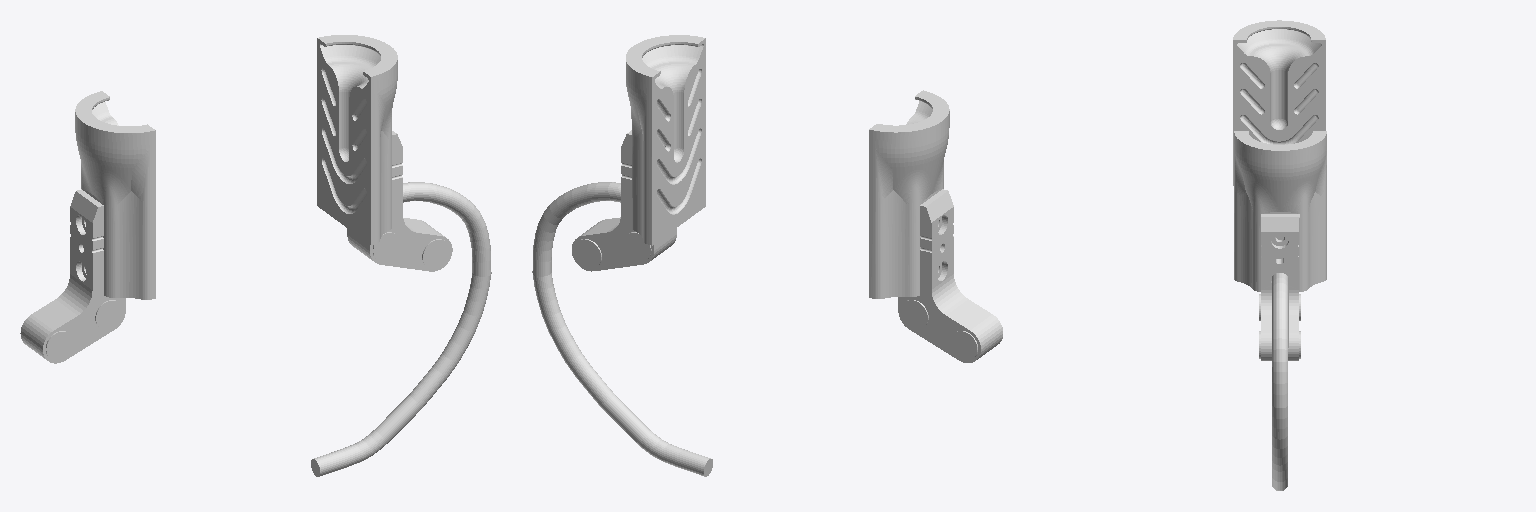
robot.urdf — kinova:
<?xml version="1.0" ?>
<!-- =================================================================================== -->
<!-- |    This document was autogenerated by xacro from gen3_robotiq_2f_85.xacro       | -->
<!-- |    EDITING THIS FILE BY HAND IS NOT RECOMMENDED                                 | -->
<!-- =================================================================================== -->
<robot name="kinova" xmlns:xacro="http://www.ros.org/wiki/xacro">
  <!-- Run the macros -->
  <link name="kinova_link0">
    <inertial>
      <origin rpy="0 0 0" xyz="0 0 0"/>
      <mass value="1.697"/>
      <inertia ixx="0.004622" ixy="9E-06" ixz="6E-05" iyy="0.004495" iyz="9E-06" izz="0.002079"/>
    </inertial>
    <visual>
      <origin rpy="0 0 0" xyz="0 0 0"/>
      <geometry>
        <mesh filename="package://meshes/visual/base_link.STL"/>
      </geometry>
      <material name="kinova_blue"/>
    </visual>
    <collision>
      <origin rpy="0 0 0" xyz="0 0 0"/>
      <geometry>
        <mesh filename="package://meshes/collision/base_link.STL"/>
      </geometry>
    </collision>
  </link>

  <link name="kinova_link1">
    <inertial>
      <origin rpy="0 0 0" xyz="0 0 0"/>
      <mass value="1.3773"/>
      <inertia ixx="0.00457" ixy="1E-06" ixz="2E-06" iyy="0.004831" iyz="0.000448" izz="0.001409"/>
    </inertial>
    <visual>
      <origin rpy="0 0 0" xyz="0 0 0"/>
      <geometry>
        <mesh filename="package://meshes/visual/shoulder_link.STL"/>
      </geometry>
      <material name="kinova_white"/>
    </visual>
    <collision>
      <origin rpy="0 0 0" xyz="0 0 0"/>
      <geometry>
        <mesh filename="package://meshes/collision/shoulder_link.STL"/>
      </geometry>
    </collision>
  </link>

  <joint name="joint_1" type="continuous">
    <safety_controller k_position="100.0" k_velocity="40.0" />
    <origin rpy="3.1416 0 0" xyz="0 0 0.15643"/>
    <parent link="kinova_link0"/>
    <child link="kinova_link1"/>
    <axis xyz="0 0 1"/>
    <limit effort="87" velocity="2.1750"/>
    <dynamics damping="0.5"/>
  </joint>

  <link name="kinova_link2">
    <inertial>
      <origin rpy="0 0 0" xyz="0 0 0"/>
      <mass value="1.1636"/>
      <inertia ixx="0.011088" ixy="5E-06" ixz="0" iyy="0.001072" iyz="-0.000691" izz="0.011255"/>
    </inertial>
    <visual>
      <origin rpy="0 0 0" xyz="0 0 0"/>
      <geometry>
        <mesh filename="package://meshes/visual/half_arm_1_link.STL"/>
      </geometry>
      <material name="kinova_white"/>
    </visual>
    <collision>
      <origin rpy="0 0 0" xyz="0 0 0"/>
      <geometry>
        <mesh filename="package://meshes/collision/half_arm_1_link.STL"/>
      </geometry>
    </collision>
  </link>

  <joint name="joint_2" type="revolute">
    <origin rpy="1.5708 0 0" xyz="0 0.005375 -0.12838"/>
    <parent link="kinova_link1"/>
    <child link="kinova_link2"/>
    <axis xyz="0 0 1"/>
    <limit effort="87" lower="-2.24" upper="2.24" velocity="1.3963"/>
    <dynamics damping="0.5"/>
  </joint>

  <link name="kinova_link3">
    <inertial>
      <origin rpy="0 0 0" xyz="0 0 0"/>
      <mass value="1.1636"/>
      <inertia ixx="0.010932" ixy="0" ixz="-7E-06" iyy="0.011127" iyz="0.000606" izz="0.001043"/>
    </inertial>
    <visual>
      <origin rpy="0 0 0" xyz="0 0 0"/>
      <geometry>
        <mesh filename="package://meshes/visual/half_arm_2_link.STL"/>
      </geometry>
      <material name="kinova_white"/>
    </visual>
    <collision>
      <origin rpy="0 0 0" xyz="0 0 0"/>
      <geometry>
        <mesh filename="package://meshes/collision/half_arm_2_link.STL"/>
      </geometry>
    </collision>
  </link>

  <joint name="joint_3" type="continuous">
    <origin rpy="-1.5708 0 0" xyz="0 -0.21038 -0.006375"/>
    <parent link="kinova_link2"/>
    <child link="kinova_link3"/>
    <axis xyz="0 0 1"/>
    <limit effort="87" velocity="1.3963"/>
    <dynamics damping="0.5"/>
  </joint>

  <link name="kinova_link4">
    <inertial>
      <origin rpy="0 0 0" xyz="0 0 0"/>
      <mass value="0.9302"/>
      <inertia ixx="0.008147" ixy="-1E-06" ixz="0" iyy="0.000631" iyz="-0.0005" izz="0.008316"/>
    </inertial>
    <visual>
      <origin rpy="0 0 0" xyz="0 0 0"/>
      <geometry>
        <mesh filename="package://meshes/visual/forearm_link.STL"/>
      </geometry>
      <material name="kinova_white"/>
    </visual>
    <collision>
      <origin rpy="0 0 0" xyz="0 0 0"/>
      <geometry>
        <mesh filename="package://meshes/collision/forearm_link.STL"/>
      </geometry>
    </collision>
  </link>

  <joint name="joint_4" type="revolute">
    <origin rpy="1.5708 0 0" xyz="0 0.006375 -0.21038"/>
    <parent link="kinova_link3"/>
    <child link="kinova_link4"/>
    <axis xyz="0 0 1"/>
    <limit effort="87" lower="-2.57" upper="2.57" velocity="1.3963"/>
    <dynamics damping="0.5"/>
  </joint>

  <link name="kinova_link5">
    <inertial>
      <origin rpy="0 0 0" xyz="0 0 0"/>
      <mass value="0.6781"/>
      <inertia ixx="0.001596" ixy="0" ixz="0" iyy="0.001607" iyz="0.000256" izz="0.000399"/>
    </inertial>
    <visual>
      <origin rpy="0 0 0" xyz="0 0 0"/>
      <geometry>
        <mesh filename="package://meshes/visual/spherical_wrist_1_link.STL"/>
      </geometry>
      <material name="kinova_white"/>
    </visual>
    <collision>
      <origin rpy="0 0 0" xyz="0 0 0"/>
      <geometry>
        <mesh filename="package://meshes/collision/spherical_wrist_1_link.STL"/>
      </geometry>
    </collision>
  </link>

  <joint name="joint_5" type="continuous">
    <origin rpy="-1.5708 0 0" xyz="0 -0.20843 -0.006375"/>
    <parent link="kinova_link4"/>
    <child link="kinova_link5"/>
    <axis xyz="0 0 1"/>
    <limit effort="12" velocity="1.2218"/>
    <dynamics damping="0.5"/>
  </joint>

  <link name="kinova_link6">
    <inertial>
      <origin rpy="0 0 0" xyz="0 0 0"/>
      <mass value="0.6781"/>
      <inertia ixx="0.001641" ixy="0" ixz="0" iyy="0.00041" iyz="-0.000278" izz="0.001641"/>
    </inertial>
    <visual>
      <origin rpy="0 0 0" xyz="0 0 0"/>
      <geometry>
        <mesh filename="package://meshes/visual/spherical_wrist_2_link.STL"/>
      </geometry>
      <material name="kinova_white"/>
    </visual>
    <collision>
      <origin rpy="0 0 0" xyz="0 0 0"/>
      <geometry>
        <mesh filename="package://meshes/collision/spherical_wrist_2_link.STL"/>
      </geometry>
    </collision>
  </link>

  <joint name="joint_6" type="revolute">
    <origin rpy="1.5708 0 0" xyz="0 0.00017505 -0.10593"/>
    <parent link="kinova_link5"/>
    <child link="kinova_link6"/>
    <axis xyz="0 0 1"/>
    <limit effort="12" lower="-2.09" upper="2.09" velocity="1.2218"/>
    <dynamics damping="0.5"/>
  </joint>

  <link name="kinova_link7">
    <inertial>
      <origin rpy="0 0 0" xyz="0 0 0"/>
      <mass value="0.5"/>
      <inertia ixx="0.000587" ixy="3E-06" ixz="3E-06" iyy="0.000369" iyz="-0.000118" izz="0.000609"/>
    </inertial>
    <visual>
      <origin rpy="0 0 0" xyz="0 0 0"/>
      <geometry>
        <mesh filename="package://meshes/visual/bracelet_with_vision_link.STL"/>
      </geometry>
      <material name="kinova_white"/>
    </visual>0.00017505
    <collision>
      <origin rpy="0 0 0" xyz="0 0 0"/>
      <geometry>
        <mesh filename="package://meshes/collision/bracelet_with_vision_link.STL"/>
      </geometry>
    </collision>
  </link>

  <joint name="joint_7" type="continuous">
    <origin rpy="-1.5708 0 0" xyz="0 -0.10593 -0.00017505"/>
    <parent link="kinova_link6"/>
    <child link="kinova_link7"/>
    <axis xyz="0 0 1"/>
    <limit effort="12" velocity="1.2218"/>
    <dynamics damping="0.5"/>
  </joint>

  <joint name="gripper_base_joint" type="fixed">
    <parent link="kinova_link7"/>
    <child link="robotiq_85_base_link"/>
    <origin rpy="3.14159265358979 0 0" xyz="0 0 -0.065529"/>
  </joint>

  <link
    name="robotiq_85_base_link">
    <inertial>
      <origin
        rpy="0 0 0" xyz="0 0 0"/>
      <mass
        value="0.30915" />
      <inertia
        ixx="0.00028972"
        ixy="-5.7879E-10"
        ixz="-1.8543E-06"
        iyy="0.00030737"
        iyz="1.682E-12"
        izz="0.00019914" />
    </inertial>
    <visual>
      <origin
        xyz="0 0 0"
        rpy="0 0 0" />
      <geometry>
        <mesh
          filename="package://meshes/visual/robotiq_85_base_link_fine.STL" />
      </geometry>
      <material name="gripper_black"/>
    </visual>
    <collision>
      <origin rpy="0 0 0" xyz="0 0 0"/>
      <geometry>
        <mesh filename="package://meshes/visual/robotiq_85_base_link_fine.STL"/>
      </geometry>
    </collision>
  </link>

  <link
    name="left_outer_knuckle">
    <inertial>
      <origin
        rpy="0 0 0" xyz="0 0 0"/>
      <mass
        value="0.00684838849434396" />
      <inertia
        ixx="2.66832029033166E-07"
        ixy="1.66142314639824E-15"
        ixz="1.45945633322873E-07"
        iyy="1.3889233257419E-06"
        iyz="2.82951161241588E-15"
        izz="1.26603336914415E-06" />
    </inertial>
    <visual>
      <origin
        xyz="0 0 0"
        rpy="0 0 0" />
      <geometry>
        <mesh
          filename="package://meshes/visual/outer_knuckle_fine.STL" />
      </geometry>
      <material name="gripper_lightGrey"/>
    </visual>
  </link>
  <joint
    name="finger_joint"
    type="revolute">
    <origin
      xyz="0.0306011444260539 0 0.0627920162695395"
      rpy="0 0 0" />
    <parent
      link="robotiq_85_base_link" />
    <child
      link="left_outer_knuckle" />
    <axis
      xyz="0 -1 0" />
    <limit
	    effort="20"  
      lower="-0.35"
      upper="0.673"
      velocity="2.0"/>
  </joint>
  <link
    name="left_outer_finger">
    <inertial>
      <origin
        rpy="0 0 0" xyz="0 0 0"/>
      <mass
        value="0.0273093985570947" />
      <inertia
        ixx="8.51629628283022E-06"
        ixy="2.58174336207405E-19"
        ixz="3.83829504344079E-07"
        iyy="6.9133328065108E-06"
        iyz="-7.58589926143789E-19"
        izz="2.25006832221981E-06" />
    </inertial>
    <visual>
      <origin
        xyz="0 0 0"
        rpy="0 0 0" />
      <geometry>
        <mesh
          filename="package://meshes/visual/outer_finger_fine.STL" />
      </geometry>
      <material name="gripper_black"/>
    </visual>
  </link>
  <joint
    name="left_outer_finger_joint"
    type="fixed">
    <origin
      xyz="0.0316910442266543 0 -0.00193396375724605"
      rpy="0 0 0" />
    <parent
      link="left_outer_knuckle" />
    <child
      link="left_outer_finger" />
    <axis
      xyz="0 -1 0" />
  </joint>
  <link
    name="left_inner_knuckle">
    <inertial>
      <origin
        rpy="0 0 0" xyz="0 0 0"/>
      <mass
        value="0.0110930853895903" />
      <inertia
        ixx="4.23392770691541E-06"
        ixy="5.748978936968E-15"
        ixz="1.78855677119788E-06"
        iyy="3.96548790524392E-06"
        iyz="1.05464666369669E-14"
        izz="3.24068002883007E-06" />
    </inertial>
    <visual>
      <origin
        xyz="0 0 0"
        rpy="0 0 0" />
      <geometry>
        <mesh
          filename="package://meshes/visual/inner_knuckle_fine.STL" />
      </geometry>
      <material name="gripper_black"/>
    </visual>
  </link>
  <joint
    name="left_inner_knuckle_joint"
    type="revolute">
    <origin
      xyz="0.0127000000001501 0 0.0693074999999639"
      rpy="0 0 0" />
    <parent
      link="robotiq_85_base_link" />
    <child
      link="left_inner_knuckle" />
    <axis
      xyz="0 -1 0" />
    <limit
      effort="20"
      velocity="2.0"/>
    <mimic 
      joint="finger_joint"
      multiplier="1"
      offset="0" />
  </joint>

  <link
    name="left_inner_finger">
    <contact>
      <friction_anchor/>
      <stiffness value="30000.0"/>
      <damping value="1000.0"/>
      <spinning_friction value="0.1"/>
      <lateral_friction value="1.0"/>
    </contact>
    <inertial>
      <origin
        rpy="0 0 0" xyz="0 0 0"/>
      <mass
        value="0.00724255346165745" />
      <inertia
        ixx="1.47824274053603E-06"
        ixy="-3.94884463570303E-19"
        ixz="-3.45268847648622E-07"
        iyy="1.70064480838395E-06"
        iyz="3.5059838910097E-19"
        izz="4.77151336838364E-07" />
    </inertial>
    <visual>
      <origin
        xyz="0 0 0"
        rpy="1.57 0 0" />
      <geometry>
        <mesh
          filename="package://meshes/visual/inner_finger_pipe_fine.obj" />
      </geometry>
      <material name="gripper_lightGrey"/>
    </visual>
    <collision>
      <origin
        xyz="0.0014 0 0"
        rpy="0 0 0" />
      <geometry>
        <mesh
          filename="package://meshes/visual/inner_finger_fine.STL" />
      </geometry>
    </collision>
  </link>
  <joint
    name="left_inner_finger_joint"
    type="prismatic">
    <origin
      xyz="0.05 0 0.12"
      rpy="0 0 0" />
    <parent
      link="robotiq_85_base_link" />
    <child
      link="left_inner_finger" />
    <axis
      xyz="1 0 0" />
    <limit
      effort="20"
      velocity="2.0"/>
  </joint>

  <link
    name="right_inner_knuckle">
    <inertial>
      <origin
        rpy="0 0 0" xyz="0 0 0"/>
      <mass
        value="0.0110930853895903" />
      <inertia
        ixx="4.27134775939882E-06"
        ixy="-8.53568456728898E-15"
        ixz="1.77774229944246E-06"
        iyy="3.96548790524392E-06"
        iyz="-8.45108024914164E-15"
        izz="3.20325997634666E-06" />
    </inertial>
    <visual>
      <origin
        xyz="0 0 0"
        rpy="0 0 0" />
      <geometry>
        <mesh
          filename="package://meshes/visual/inner_knuckle_fine.STL" />
      </geometry>
      <material name="gripper_black"/>
    </visual>
  </link>
  <joint
    name="right_inner_knuckle_joint"
    type="revolute">
    <origin
      xyz="-0.0126999999998499 0 0.0693075000000361"
      rpy="0 0 3.14159265358979" />
    <parent
      link="robotiq_85_base_link" />
    <child
      link="right_inner_knuckle" />
    <axis
      xyz="0 1 0" />
    <limit
      effort="20"
      velocity="2.0"/>
    <mimic 
      joint="finger_joint"
      multiplier="-1"
      offset="0" />
  </joint>
  <link
    name="right_inner_finger">
    <contact>
      <friction_anchor/>
      <stiffness value="30000.0"/>
      <damping value="1000.0"/>
      <spinning_friction value="0.1"/>
      <lateral_friction value="1.0"/>
    </contact>
    <inertial>
      <origin
        rpy="0 0 0" xyz="0 0 0"/>
      <mass
        value="0.00724255346165744" />
      <inertia
        ixx="1.47824283625957E-06"
        ixy="-3.95952064019123E-19"
        ixz="-3.45268708875543E-07"
        iyy="1.70064480838394E-06"
        iyz="3.55286507960029E-19"
        izz="4.77151241114822E-07" />
    </inertial>
    <visual>
      <origin
        xyz="0 0 0"
        rpy="1.57 0 0" />
      <geometry>
        <mesh
          filename="package://meshes/visual/inner_finger_fine.obj" />
      </geometry>
      <material name="gripper_lightGrey"/>
    </visual>
    <collision>
      <origin
        xyz="0.0014 0 0"
        rpy="0 0 0" />
      <geometry>
        <mesh
          filename="package://meshes/visual/inner_finger_fine.STL" />
      </geometry>
    </collision>
  </link>
  <joint
    name="right_inner_finger_joint"
    type="prismatic">
    <origin
      xyz="-0.05 0 0.12"
      rpy="0 0 3.14" />
    <parent
      link="robotiq_85_base_link" />
    <child
      link="right_inner_finger" />
    <axis
      xyz="1 0 0" />
    <limit
      effort="20"
      velocity="2.0"/>
    <mimic 
      joint="left_inner_finger_joint"
      multiplier="1"
      offset="0" />
  </joint>
  <link
    name="right_outer_knuckle">
    <inertial>
      <origin
        rpy="0 0 0" xyz="0 0 0"/>
      <mass
        value="0.00684838849401352" />
      <inertia
        ixx="2.70004361573169E-07"
        ixy="1.59579467624491E-15"
        ixz="1.56396493788199E-07"
        iyy="1.38892332558312E-06"
        iyz="2.82357800318817E-15"
        izz="1.26286103637978E-06" />
    </inertial>
    <visual>
      <origin
        xyz="0 0 0"
        rpy="0 0 0" />
      <geometry>
        <mesh
          filename="package://meshes/visual/outer_knuckle_fine.STL" />
      </geometry>
      <material name="gripper_lightGrey"/>
    </visual>
  </link>
  <joint
    name="right_outer_knuckle_joint"
    type="revolute">
    <origin
      xyz="-0.0306011444258893 0 0.0627920162695395"
      rpy="0 0 3.14159265358979" />
    <parent
      link="robotiq_85_base_link" />
    <child
      link="right_outer_knuckle" />
    <axis
      xyz="0 1 0" />
    <limit
      effort="20"
      velocity="2.0"/>
    <mimic 
      joint="finger_joint"
      multiplier="-1"
      offset="0" />
  </joint>
  <link
    name="right_outer_finger">
    <inertial>
      <origin
        rpy="0 0 0" xyz="0 0 0"/>
      <mass
        value="0.0273093985570947" />
      <inertia
        ixx="8.52366028592721E-06"
        ixy="3.41683380899422E-19"
        ixz="3.18003675694284E-07"
        iyy="6.91333280651081E-06"
        iyz="7.37726682706417E-19"
        izz="2.24270431912283E-06" />
    </inertial>
    <visual>
      <origin
        xyz="0 0 0"
        rpy="0 0 0" />
      <geometry>
        <mesh
          filename="package://meshes/visual/outer_finger_fine.STL" />
      </geometry>
      <material name="gripper_black"/>
    </visual>
  </link>
  <joint
    name="right_outer_finger_joint"
    type="fixed">
    <origin
      xyz="0.0317095909367246 0 -0.0016013564954687"
      rpy="0 0 0" />
    <parent
      link="right_outer_knuckle" />
    <child
      link="right_outer_finger" />
    <axis
      xyz="0 1 0" />
  </joint>

  <collision_filter name="collision_filter_name">
        <!-- Exclude collisions between link1 and link2 -->
        <exclude link1="robotiq_85_base_link" link2="left_outer_knuckle"/>
        <exclude link1="left_outer_knuckle" link2="left_outer_finger"/>
        <exclude link1="robotiq_85_base_link" link2="left_inner_knuckle"/>
        <exclude link1="left_inner_knuckle" link2="left_inner_finger"/>
        <exclude link1="left_inner_finger" link2="left_outer_finger"/>
        <exclude link1="robotiq_85_base_link" link2="left_outer_knuckle"/>
        <exclude link1="right_outer_knuckle" link2="right_outer_finger"/>
        <exclude link1="robotiq_85_base_link" link2="right_inner_knuckle"/>
        <exclude link1="right_inner_knuckle" link2="right_inner_finger"/>
        <exclude link1="right_inner_finger" link2="right_outer_finger"/>
    </collision_filter>

  <!-- This line was removed by Kinova because we replaced the transmission file with our own 
    <xacro:include filename="$(find robotiq_2f_85_gripper_visualization)/urdf/robotiq_arg2f_transmission.xacro" /> -->
  <!-- Tool frame used by the arm -->


  <material name="kinova_white">
    <color rgba="1.0 1.0 1.0 1.0"/>
  </material>
  <material name="kinova_grey">
    <color rgba="0.7 0.7 0.7 1.0"/>
  </material>
  <material name="kinova_blue">
    <color rgba="0.2 0.2 0.8 1.0"/>
  </material>


  <material name="gripper_black">
    <color rgba="0.1 0.1 0.1 1.0"/>
  </material>
  <material name="gripper_lightGrey">
    <color rgba="0.9 0.9 0.9 1.0"/>
  </material>
  <material name="gripper_grey">
    <color rgba="0.5 0.5 0.5 1.0"/>
  </material>
  <material name="gripper_red">
    <color rgba="0.9 0 0 1.0"/>
  </material>



</robot>

--- What the picture shows (computed from the rendered views, not written in the file) ---
The picture shows the robot from 3 angles, left to right: view 1: azimuth 30°, elevation 25°; view 2: azimuth 150°, elevation 25°; view 3: azimuth 270°, elevation 25°; orthographic projection.
Robot: kinova — 17 links, 16 joints (7 revolute, 4 continuous, 2 prismatic, 3 fixed); root link kinova_link0; default pose: every joint at zero.
Links seen in each view (by area): view 1: left_inner_finger, right_inner_finger; view 2: left_inner_finger, right_inner_finger; view 3: left_inner_finger, right_inner_finger.
Link boxes in pixels (x1,y1,x2,y2): left_inner_finger: [311, 35, 491, 476]; right_inner_finger: [20, 91, 155, 363]; left_inner_finger: [532, 35, 712, 476]; right_inner_finger: [869, 90, 1002, 362]; left_inner_finger: [1234, 131, 1326, 490]; right_inner_finger: [1233, 20, 1325, 185].
Size in the robot's own frame: 0.1654 by 0.034 by 0.142 metres.
Meshes: 14 distinct files referenced, 2 mesh visuals loaded (2 OBJ); not drawn: 15 (reference not matched to a file when rendering).